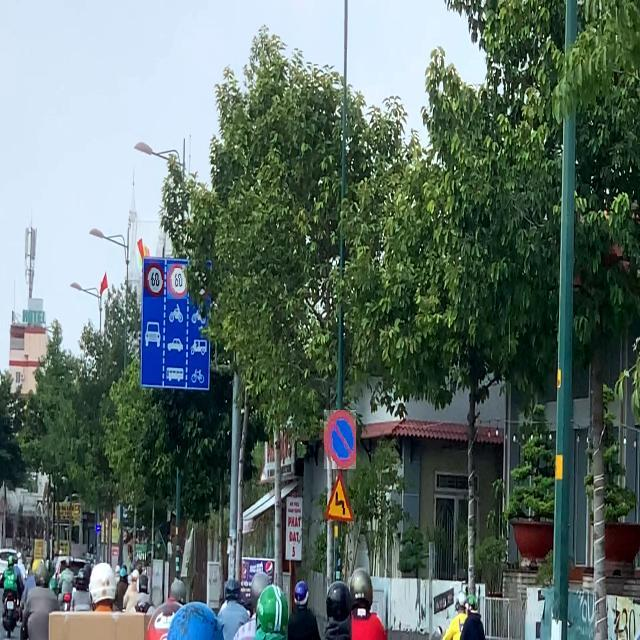P-127: (167, 264, 187, 299), (144, 263, 164, 297)
P-131a: (324, 410, 356, 469)
W-202a: (324, 472, 354, 521)
